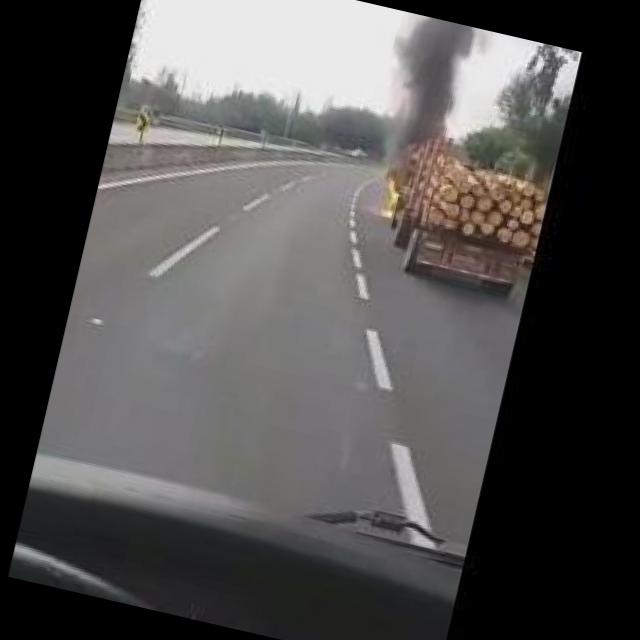fire: (375, 172, 400, 218)
smoke: (363, 9, 477, 150)
